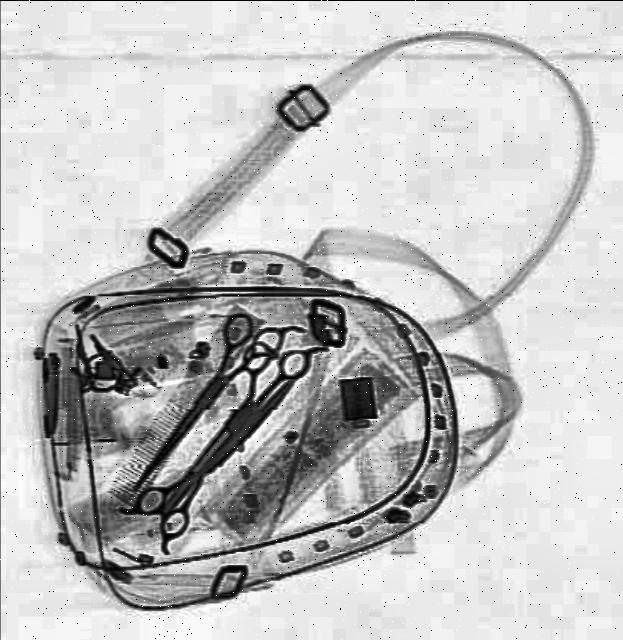Scissors: (111, 304, 297, 514), (142, 322, 322, 518), (128, 364, 308, 546)
